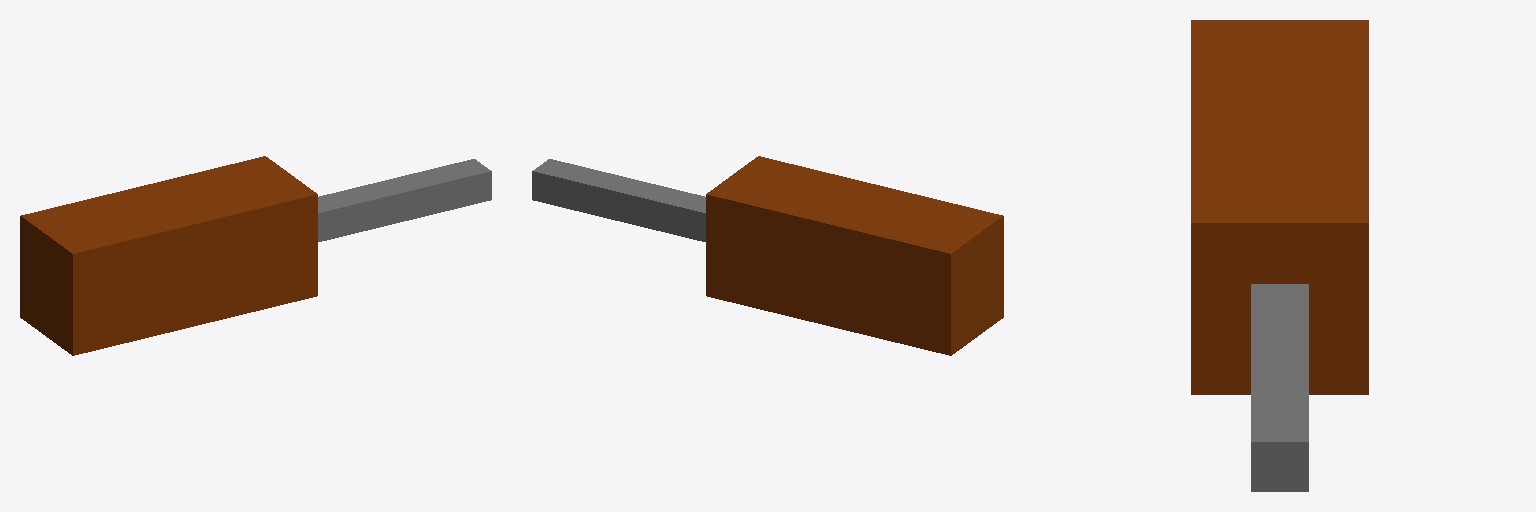
The robot description file, URDF, robot "handle_head":
<?xml version="1.0"?>
<robot name="handle_head">

  <link name="handle_head">
    <!-- Handle -->
    <visual>
              <origin xyz="0 0 0" rpy="0 0 0"/>
        <geometry>
          <box size="0.09177968526444719 0.033962514441605904 0.03650712988367058"/>
        </geometry>
        
      <material name="brown">
        <color rgba="0.55 0.27 0.07 1.0"/>
      </material>
    </visual>
    <collision>
              <origin xyz="0 0 0" rpy="0 0 0"/>
        <geometry>
          <box size="0.09177968526444719 0.033962514441605904 0.03650712988367058"/>
        </geometry>
        
    </collision>

    <!-- Head -->
    <visual>
              <origin xyz="0.08168873229144721 0 0" rpy="0 0 0"/>
        <geometry>
          <box size="0.07159777931844724 0.011067728244145172 0.010426999591346096"/>
        </geometry>
        
      <material name="gray">
        <color rgba="0.5 0.5 0.5 1.0"/>
      </material>
    </visual>
    <collision>
              <origin xyz="0.08168873229144721 0 0" rpy="0 0 0"/>
        <geometry>
          <box size="0.07159777931844724 0.011067728244145172 0.010426999591346096"/>
        </geometry>
        
    </collision>

    <inertial>
      <origin xyz="0.017437239936545224 0 0" rpy="0 0 0"/>
      <mass value="0.07643319352856202"/>
      <inertia ixx="1.2769887007725658e-05" iyy="0.000141628078112583" izz="0.0001407484521290111" ixy="0" ixz="0" iyz="0"/>
    </inertial>
  </link>

</robot>

--- What the picture shows (computed from the rendered views, not written in the file) ---
The picture shows the robot from 3 angles, left to right: view 1: azimuth 30°, elevation 25°; view 2: azimuth 150°, elevation 25°; view 3: azimuth 270°, elevation 25°; orthographic projection.
Model handle_head with 1 links and 0 joints (none), rooted at handle_head, posed all joints at 0.
Links seen in each view (by area): view 1: handle_head; view 2: handle_head; view 3: handle_head.
Boxes of the visible links, x1,y1,x2,y2 form: handle_head: (20, 156, 491, 355); handle_head: (532, 156, 1003, 355); handle_head: (1191, 20, 1368, 491).
Bounding box of the posed robot: 0.1634 × 0.034 × 0.0365 m (x, y, z).
Geometry: primitives only (box / cylinder / sphere), no mesh files.
